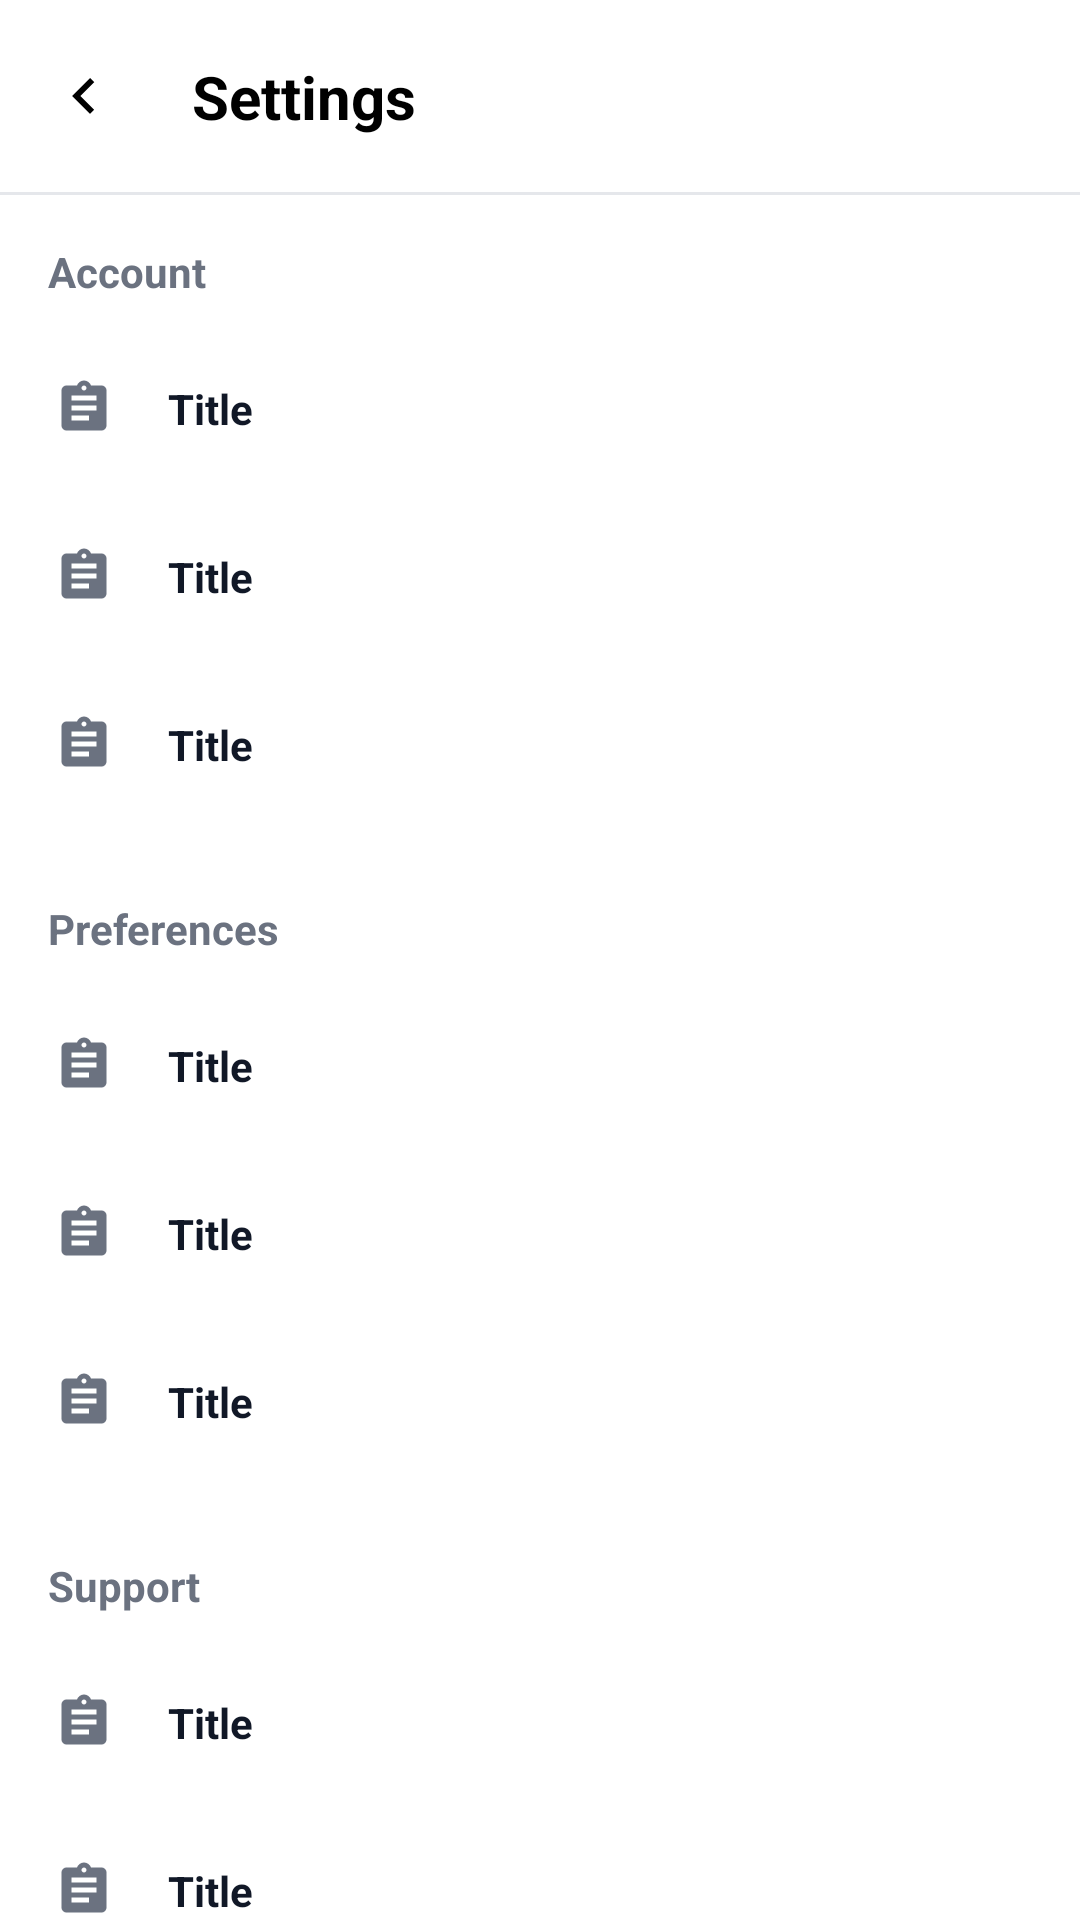

Screen size 1080x1920. Icon name, then its box in pixels as Rect(x1, y1, x2, y2):
back chevron: Rect(72, 78, 94, 114)
